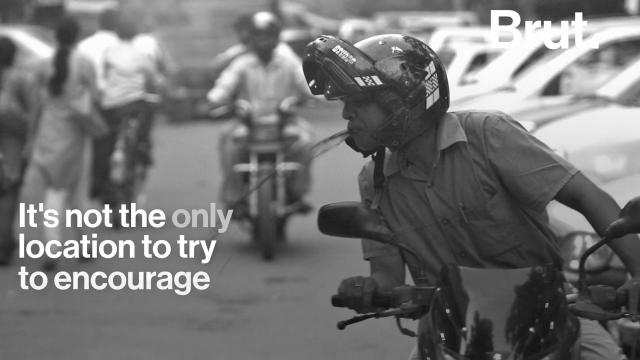spit: (231, 98, 389, 226)
